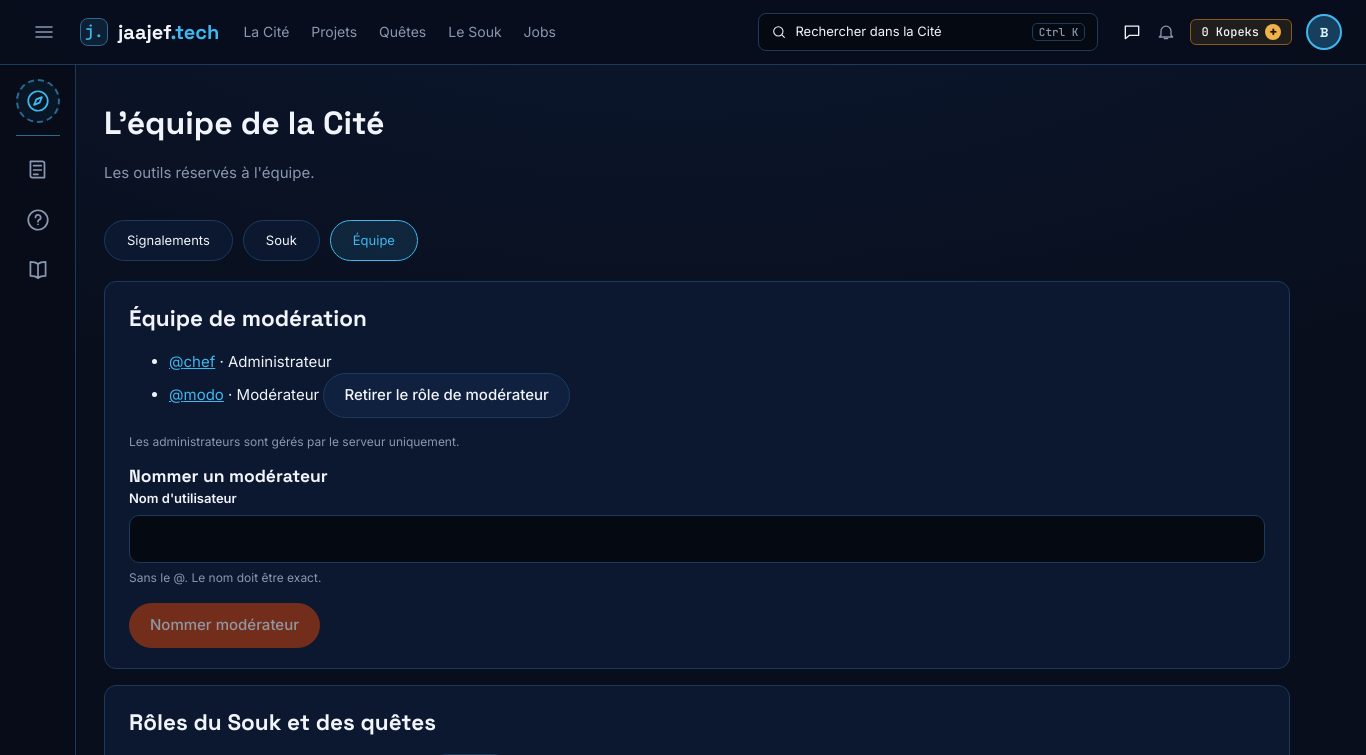
Test: Staff team › removes a moderator and reloads
The width and height of the screenshot is (1366, 755).
Step 1. Click the button with aria-label "Retirer le rôle de modérateur : modo" → (447, 396), box [323, 373, 570, 418]
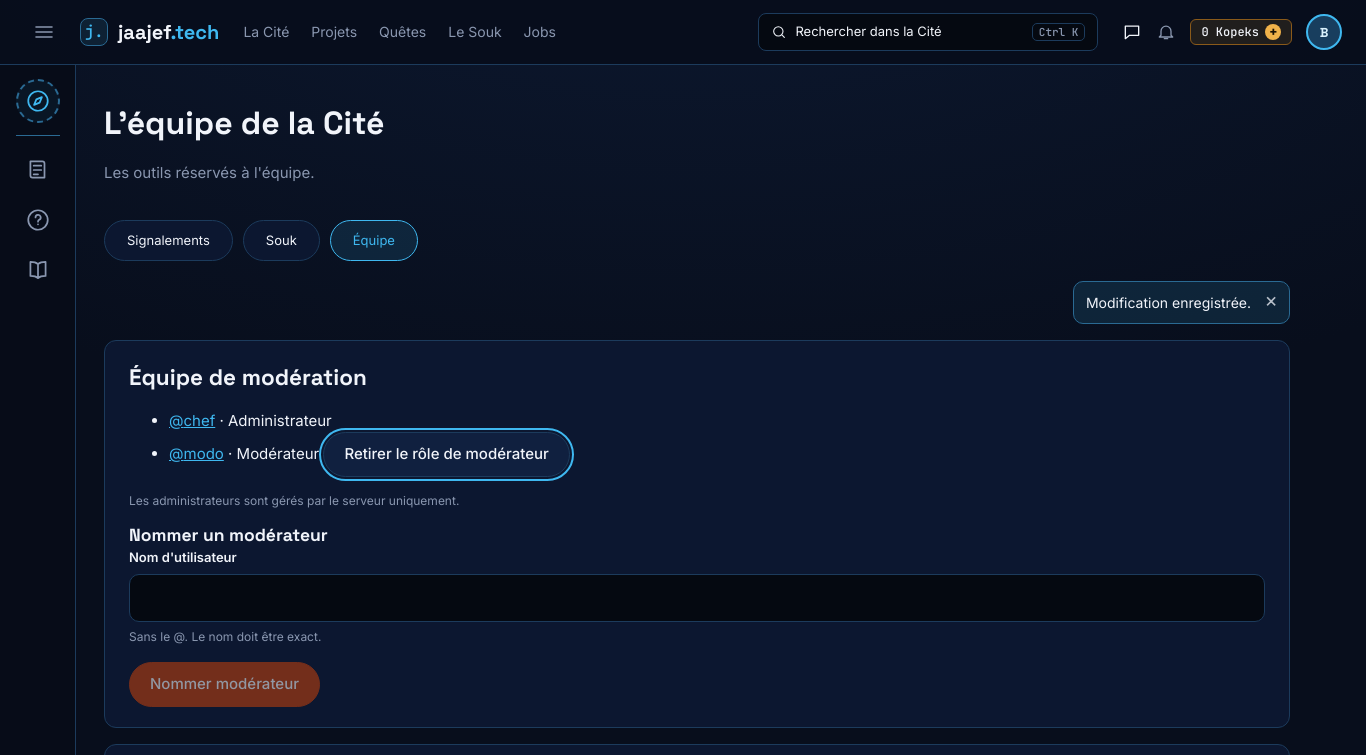
Result: the text "Modification enregistrée." is shown at [1073, 281, 1290, 324]
